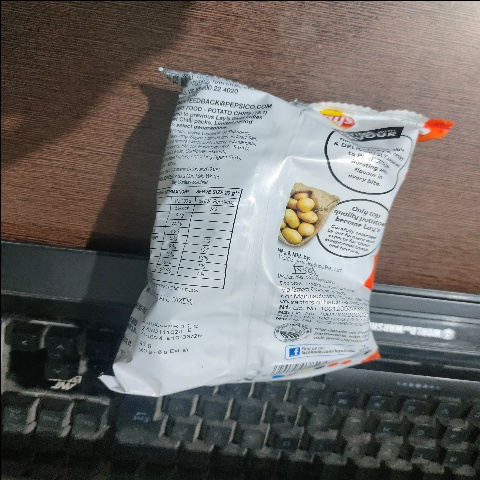lays_orange_pack: (94, 42, 417, 398)
